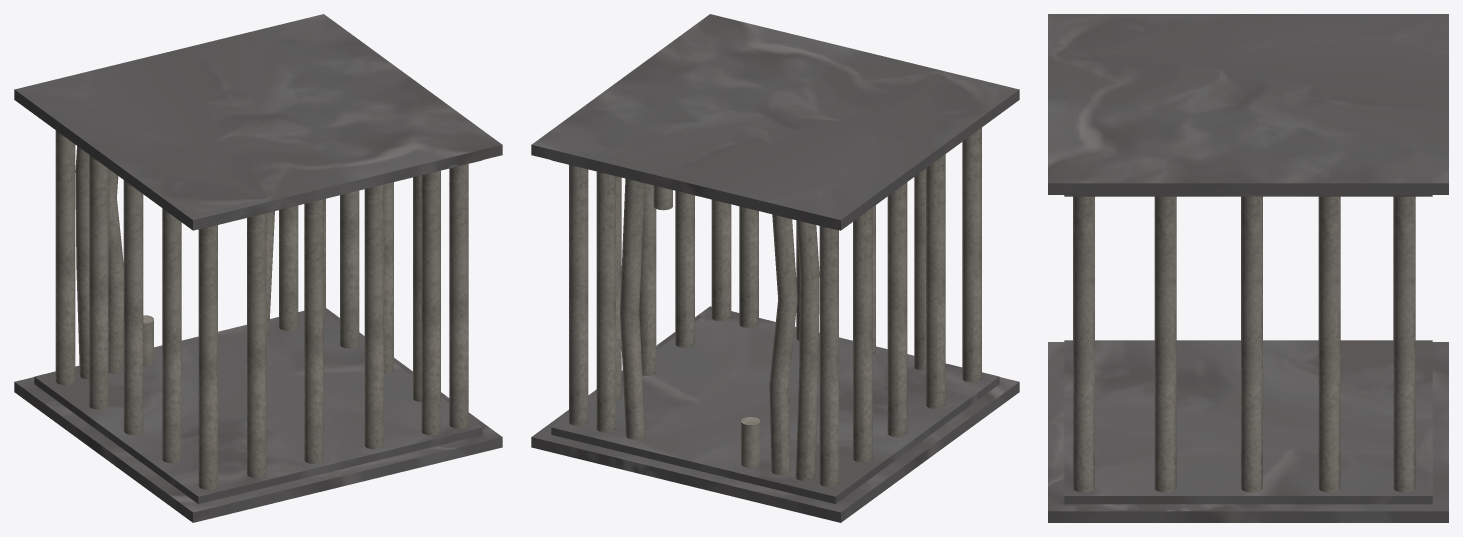
The model's file is cage.fbx.
3 renders of one model, left to right at view 1: azimuth 30°, elevation 25°; view 2: azimuth 150°, elevation 25°; view 3: azimuth 270°, elevation 25°, orthographic. The views are drawn at different scales.
Parts seen in each view (by area): view 1: cage; view 2: cage; view 3: cage.
Boxes of the visible parts, box(x1,y1,x2,y2) form: cage: box(14, 14, 502, 522); cage: box(531, 14, 1019, 522); cage: box(1048, 14, 1448, 522).
Size of the model in its own units: 3.29 by 3.07 by 3.29.
1 material, 1 textured.
